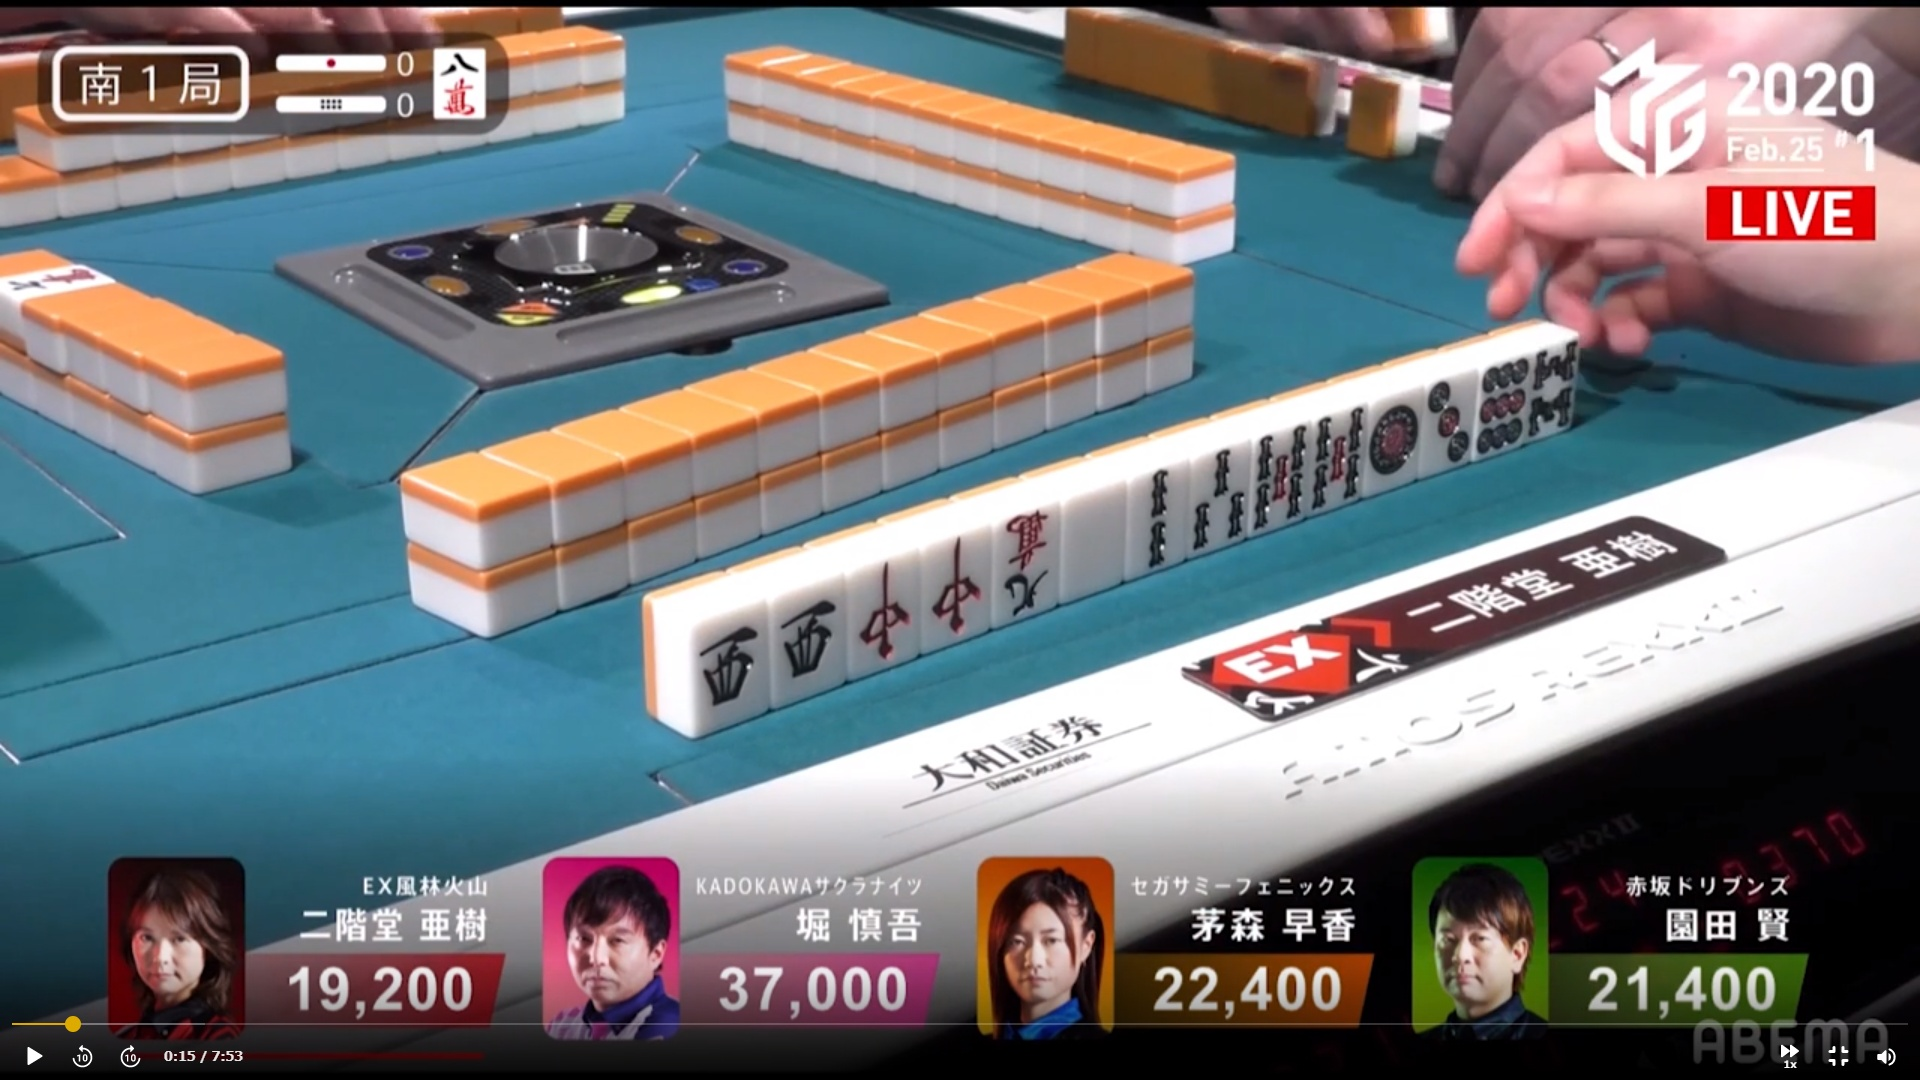1p: (1367, 392, 1420, 488)
2s: (1131, 459, 1182, 579)
3p: (1420, 376, 1477, 467)
3s: (1187, 443, 1251, 550)
5s: (1255, 422, 1309, 529), (1311, 404, 1365, 508)
8s: (1528, 336, 1577, 440)
9m: (990, 505, 1050, 618)
9p: (1477, 357, 1522, 454)
chun: (844, 550, 916, 675), (919, 531, 984, 644)
haku: (1051, 456, 1124, 595)
hand_nan_1: (47, 41, 253, 127)
round_0: (264, 86, 429, 127)
sha: (683, 597, 764, 724), (764, 576, 844, 698)
team_exfurinkazan: (1176, 600, 1433, 723)
